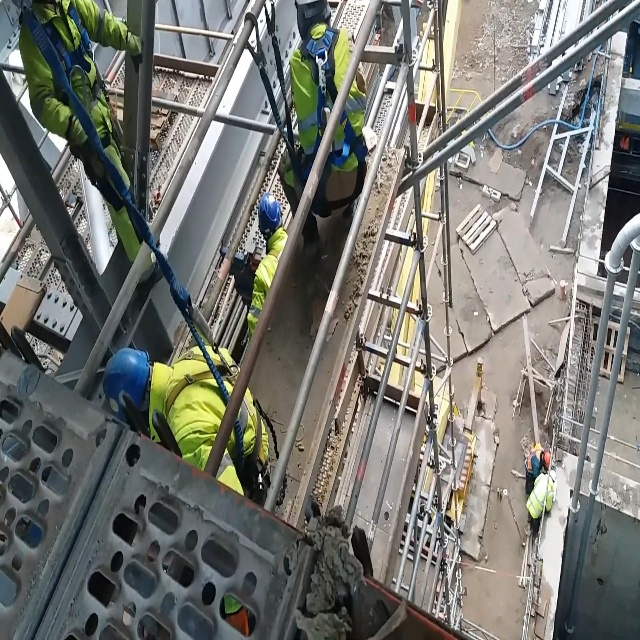Arnes_seguridad: (289, 34, 369, 231), (152, 344, 262, 486), (24, 0, 115, 171)
